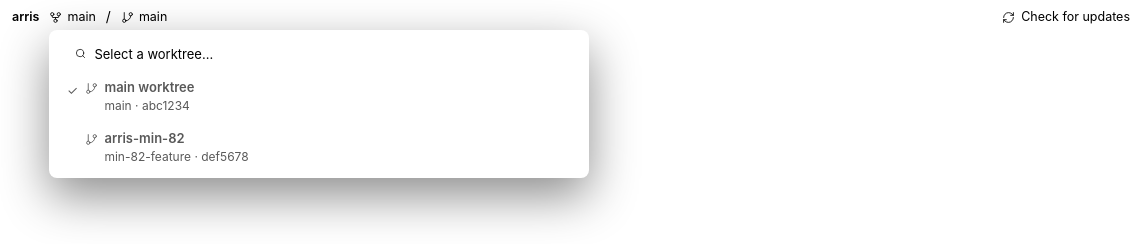
Scenario: TopBar › filters worktrees by name and branch
In the field with placeholder "Select a worktree...": {"x": 328, "y": 54} [92,44,564,64], type "min-82"
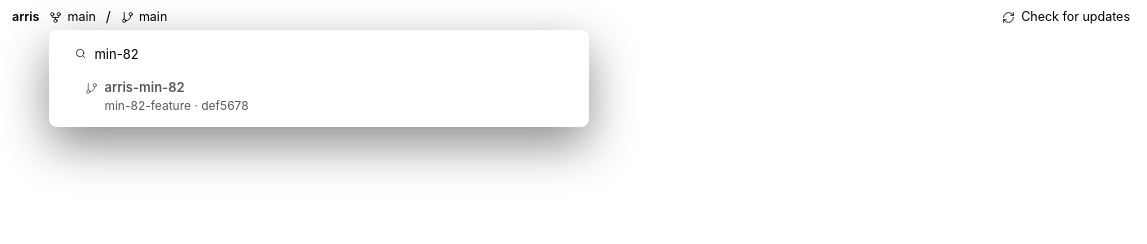
Expected: the option shows "arris-min-82", [56,72,584,121]
Expected: the number of options is 1, [56,72,584,121]
